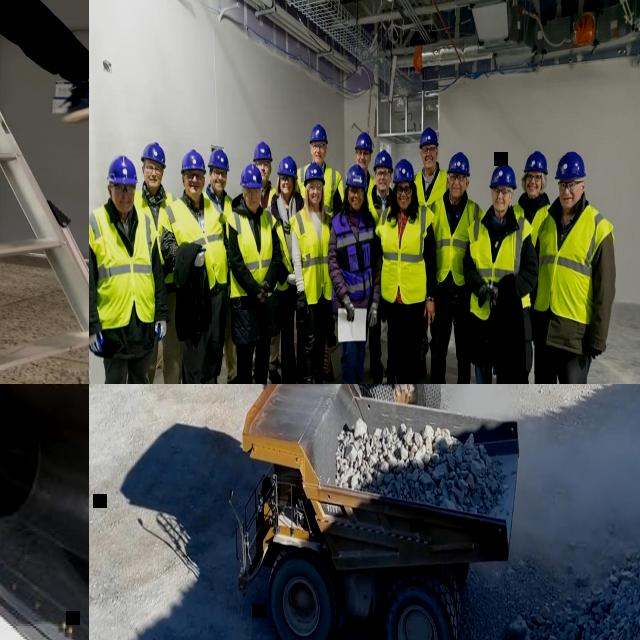Hardhat: (106, 154, 138, 185), (554, 150, 586, 180), (490, 161, 518, 189), (180, 147, 207, 176), (140, 140, 166, 168), (523, 149, 548, 174), (392, 158, 417, 182), (446, 151, 470, 175), (344, 163, 368, 187), (240, 163, 263, 188), (304, 162, 326, 186), (207, 148, 231, 170), (374, 148, 394, 173), (277, 155, 299, 177), (420, 126, 440, 148), (252, 140, 272, 162), (308, 124, 328, 144), (355, 131, 373, 151)
NO-Mask: (559, 190, 579, 208), (114, 198, 134, 213), (492, 196, 508, 211), (448, 183, 466, 196), (524, 182, 540, 196), (186, 183, 203, 196), (422, 154, 437, 168), (397, 193, 411, 208), (348, 195, 362, 209), (247, 197, 261, 210), (376, 178, 389, 191), (146, 176, 160, 188), (212, 180, 226, 192), (312, 151, 326, 163), (308, 192, 322, 204), (280, 183, 293, 195), (357, 156, 369, 168), (260, 169, 270, 181)
Person: (521, 148, 619, 384), (89, 153, 169, 384), (157, 147, 233, 384), (462, 159, 540, 384), (425, 148, 487, 384), (375, 155, 436, 384), (133, 138, 186, 384), (226, 164, 284, 384), (294, 123, 344, 372), (327, 165, 383, 384), (0, 0, 89, 123), (290, 161, 334, 384), (413, 127, 449, 379), (204, 144, 241, 384), (514, 147, 550, 384), (363, 147, 399, 384), (268, 154, 304, 384), (250, 140, 281, 384), (352, 132, 377, 376)
Safety Vest: (534, 200, 614, 324), (89, 200, 157, 327), (468, 206, 534, 318), (158, 195, 227, 292), (375, 201, 435, 304), (426, 192, 486, 287), (226, 206, 278, 302), (134, 187, 182, 284), (289, 208, 332, 306), (330, 210, 376, 300), (264, 202, 294, 292), (296, 162, 342, 214), (511, 201, 551, 247), (203, 189, 233, 237), (414, 169, 450, 207), (336, 172, 374, 204), (368, 184, 393, 222), (260, 186, 276, 208)
vehicle: (228, 384, 523, 640), (0, 384, 89, 640), (293, 384, 509, 430)
